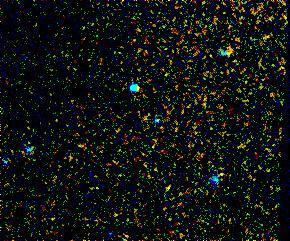star: (197, 111, 227, 141)
